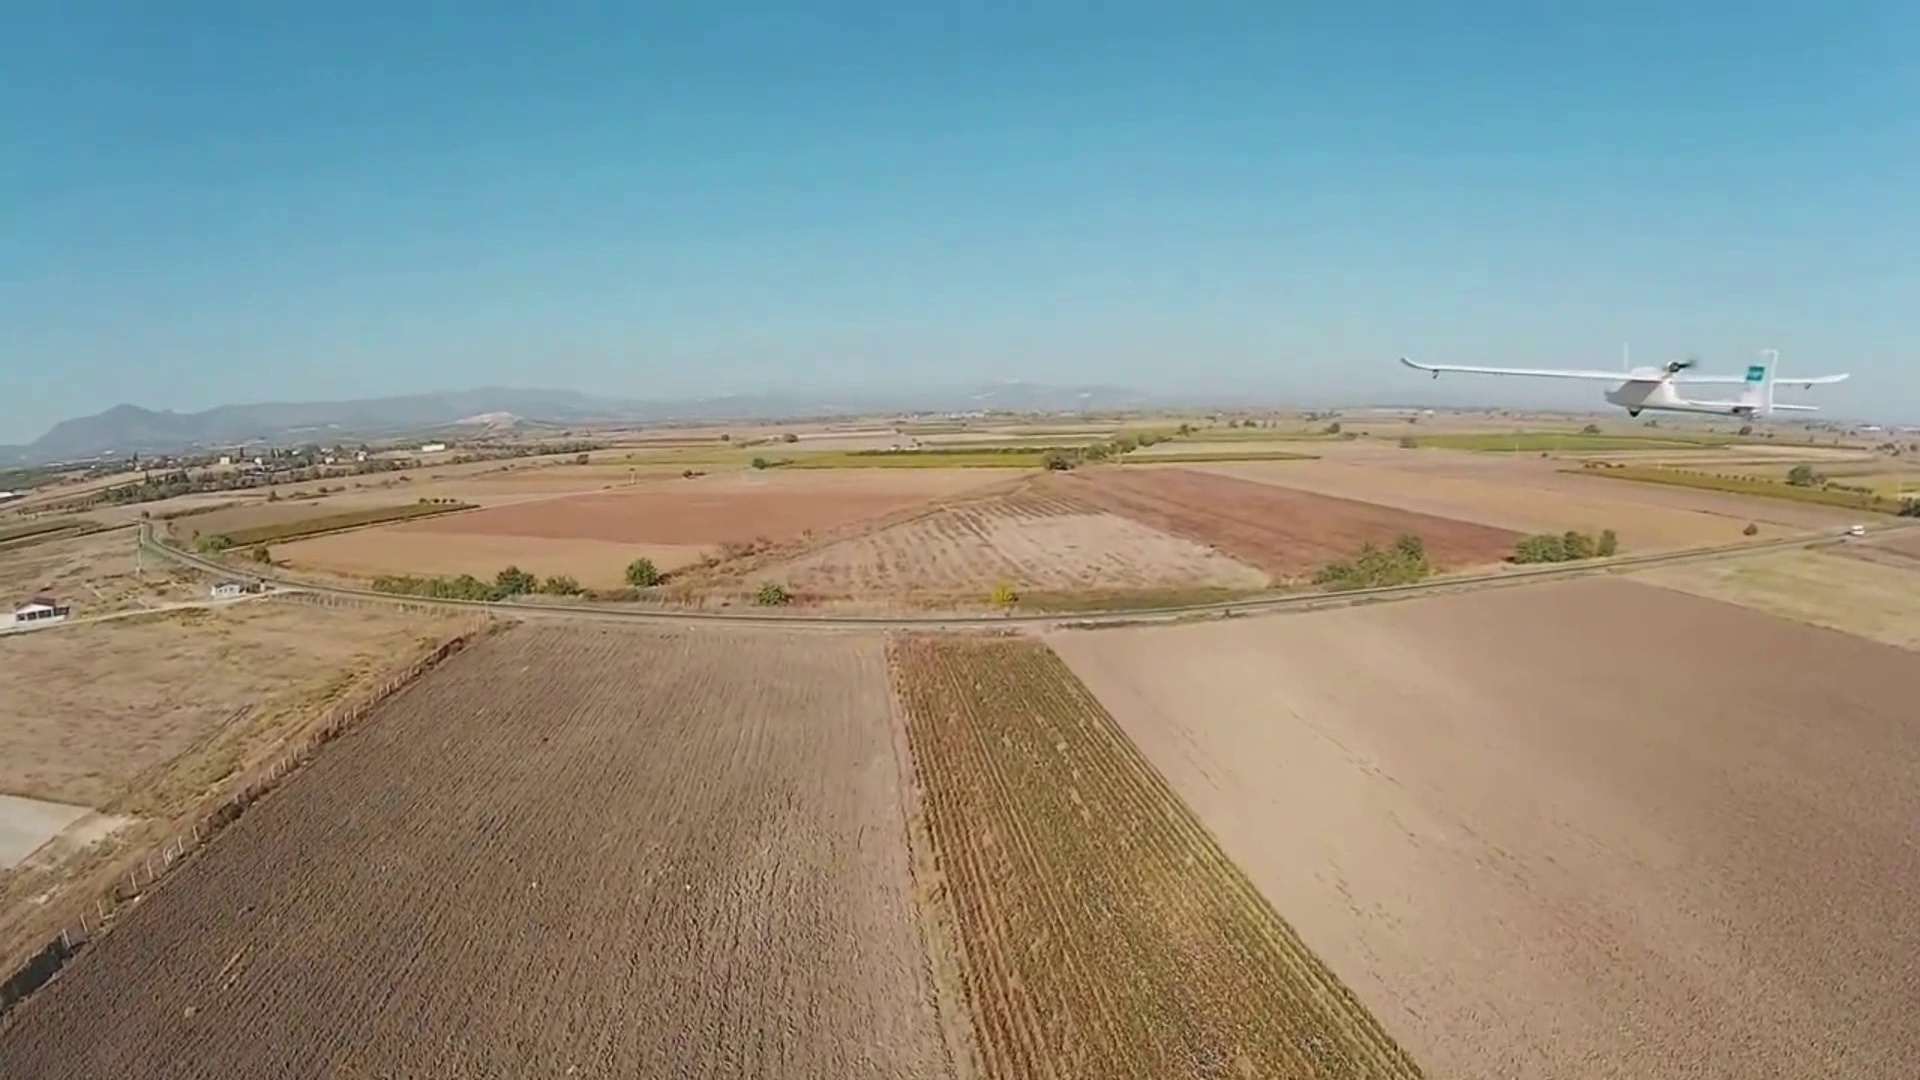airplane: (1398, 344, 1838, 426)
